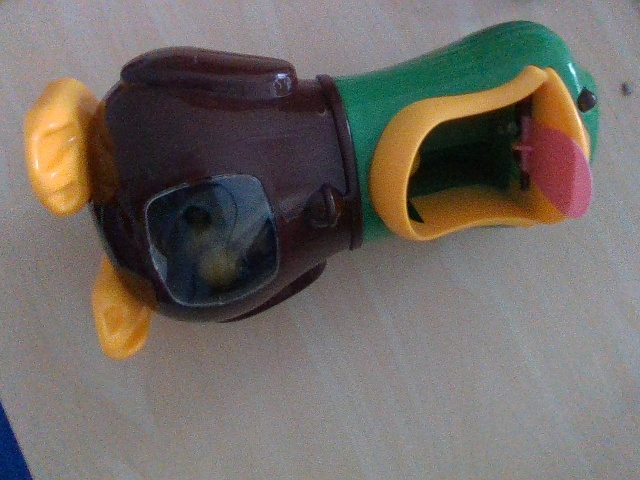toy: (23, 22, 601, 362)
